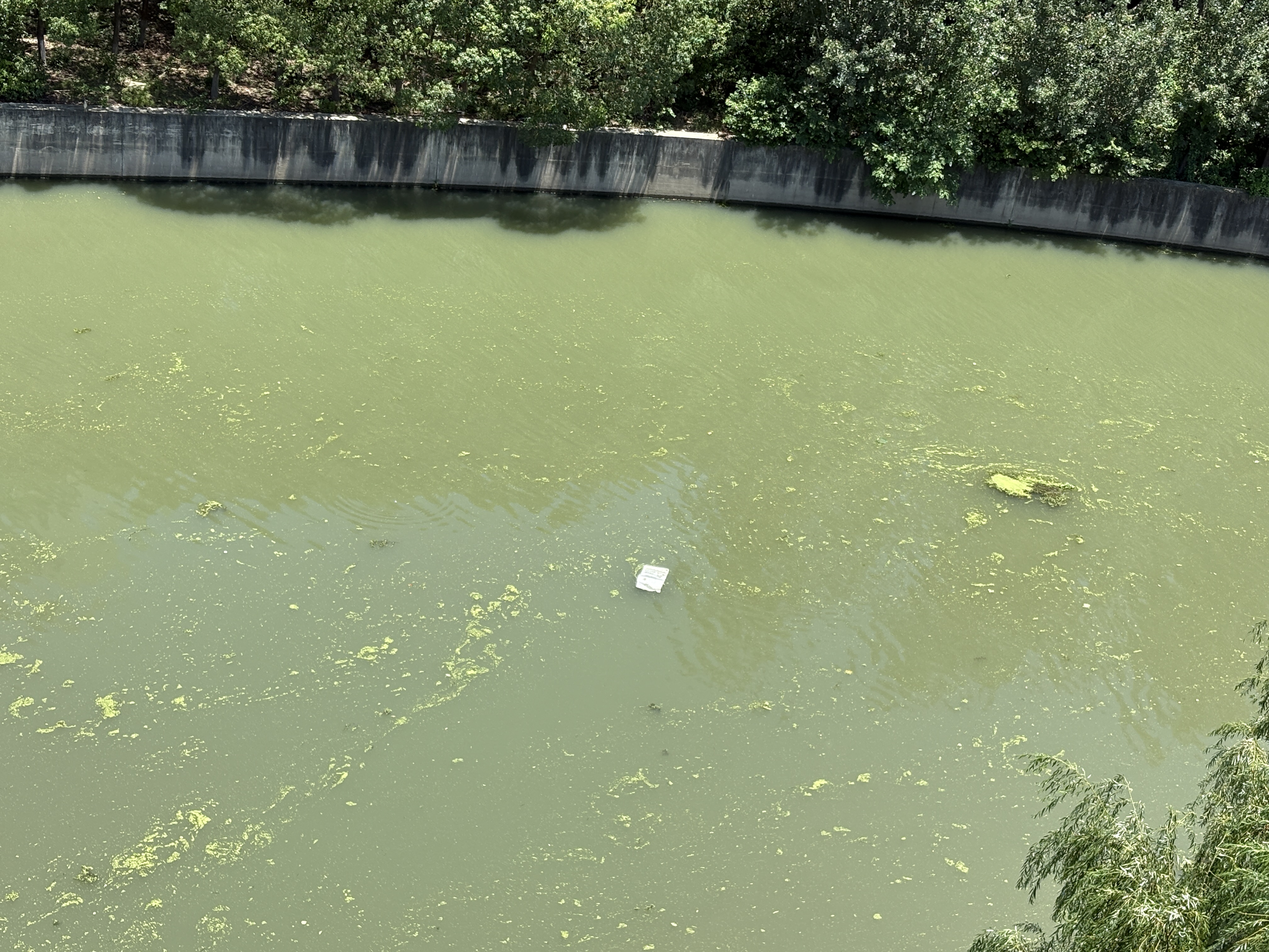Other: (107, 808, 206, 872), (986, 465, 1072, 509), (95, 697, 125, 720), (200, 498, 224, 515)
Plastic wastes: (633, 560, 668, 594)
